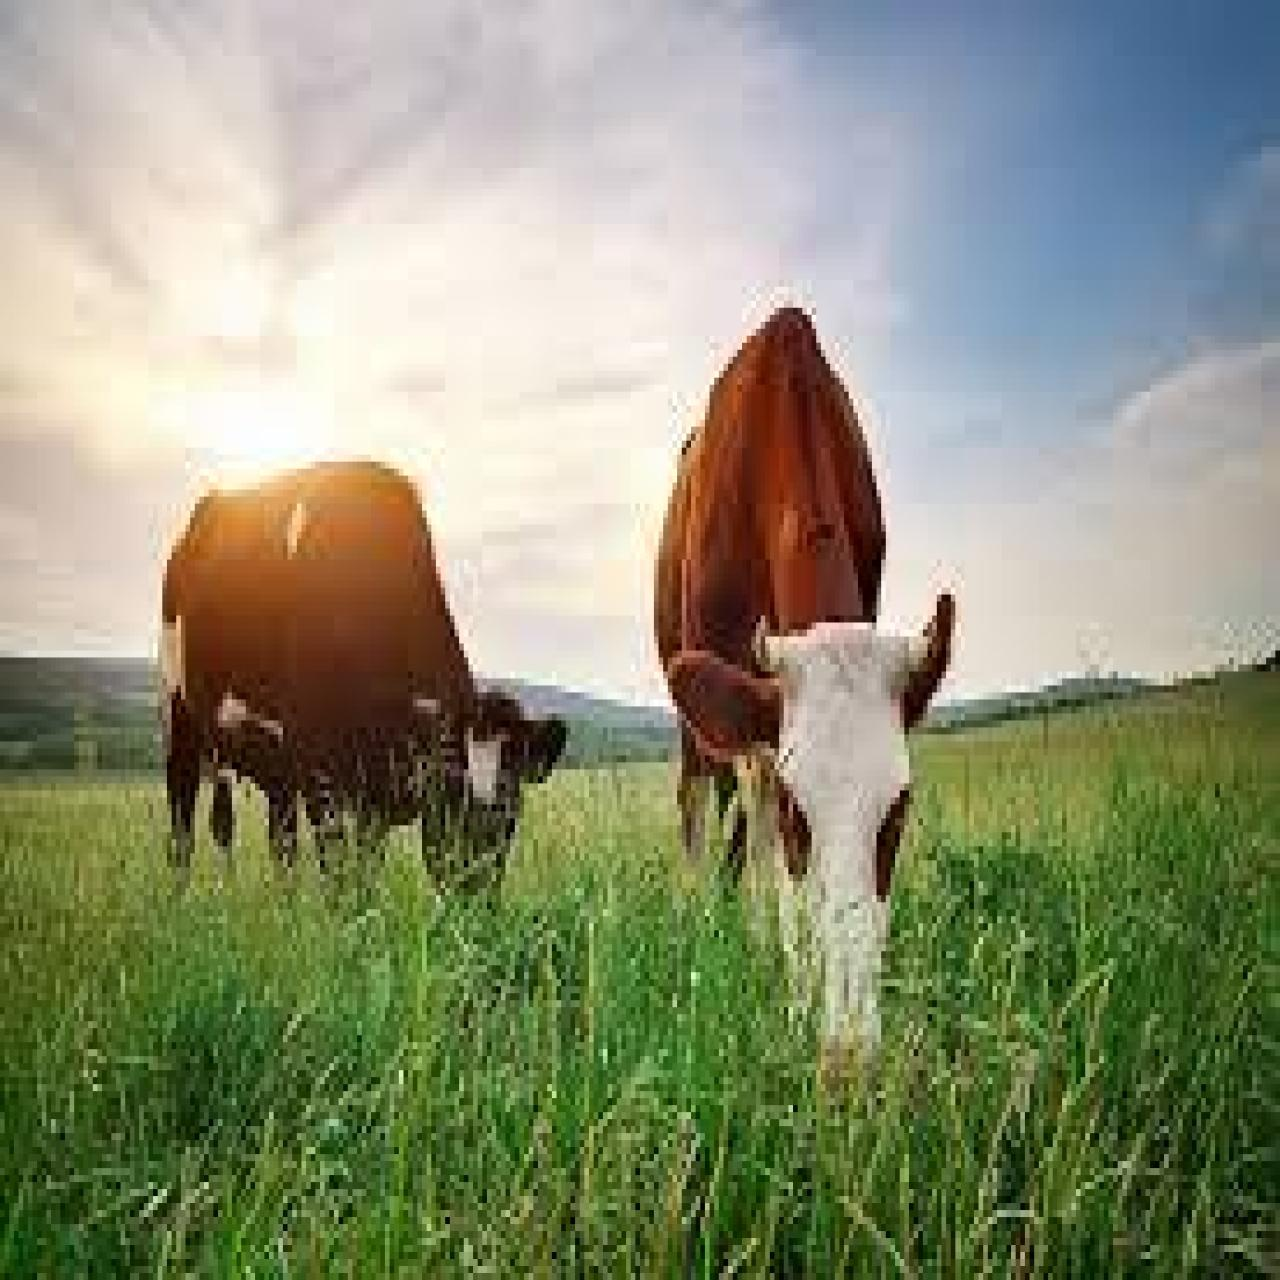cow: (652, 301, 958, 1105), (163, 458, 571, 920)
